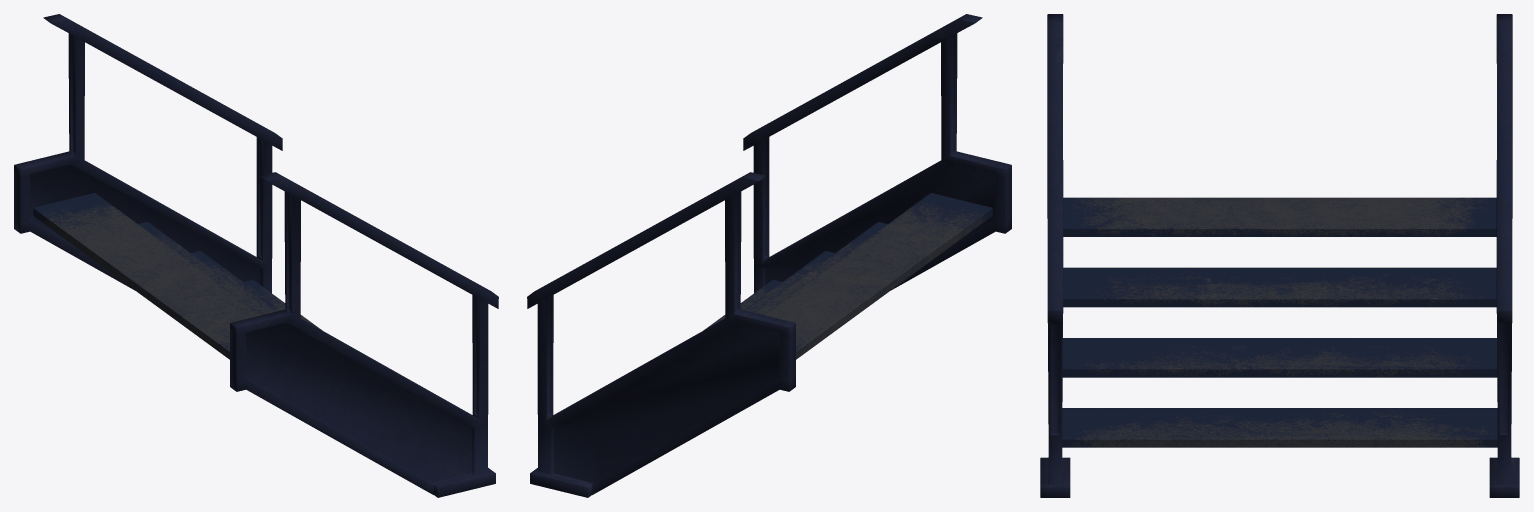
The model's file is stairs_02.gltf.
The picture shows the model from 3 angles, left to right: view 1: azimuth 30°, elevation 25°; view 2: azimuth 150°, elevation 25°; view 3: azimuth 270°, elevation 25°; orthographic projection. The views are drawn at different scales.
Parts seen in each view (by area): view 1: stairs_02; view 2: stairs_02; view 3: stairs_02.
Part boxes in pixels (x1,y1,x2,y2): stairs_02: (14, 14, 498, 497); stairs_02: (527, 14, 1011, 497); stairs_02: (1040, 14, 1519, 497).
Size of the model in its own units: 1.44 by 1.87 by 2.2.
1 material, 1 textured.
